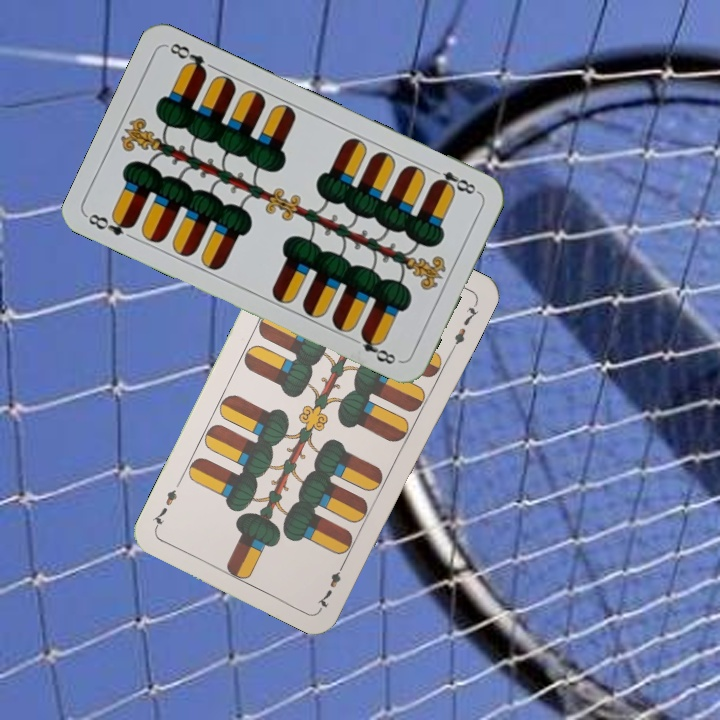E7: (313, 556, 349, 611)
E8: (84, 209, 140, 243), (426, 164, 481, 198)
